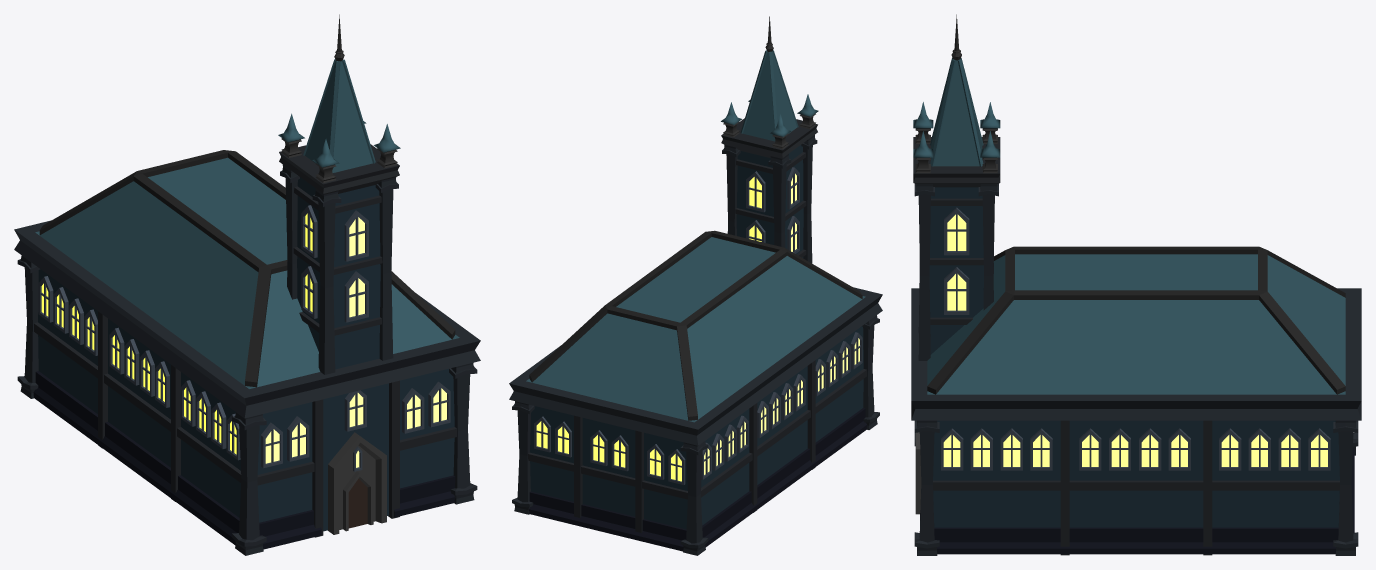
Rendered from pedrio2.fbx.
3 views of the same model, side by side, from view 1: azimuth 30°, elevation 25°; view 2: azimuth 150°, elevation 25°; view 3: azimuth 270°, elevation 25° (orthographic). The views are drawn at different scales.
Parts seen in each view (by area): view 1: P1_Telhado01.001, Cube.002, Cube, P1_Pilar01.001, Cube.001, P1_Janela01.004, P1_Janela01.001, P1_PortaContorno01, P1_JanelaFundo01.001, P1_JanelaFundo01.004, P1_Ponta01.001, P1_Porta01.001; view 2: P1_Telhado01.001, Cube.002, Cube, P1_Pilar01.001, Cube.001, P1_Janela01.004, P1_Janela01.001, P1_JanelaFundo01.001, P1_JanelaFundo01.004, P1_Ponta01.001; view 3: P1_Telhado01.001, Cube, Cube.002, Cube.001, P1_Pilar01.001, P1_Janela01.003, P1_JanelaFundo01.003, P1_Janela01.001, P1_JanelaFundo01.001, P1_Ponta01.001.
Boxes of the visible parts, box(x1,y1,x2,y2) form: P1_Telhado01.001: box(35, 59, 459, 388); Cube.002: box(14, 144, 480, 537); Cube: box(38, 177, 454, 531); P1_Pilar01.001: box(17, 164, 477, 555); Cube.001: box(33, 371, 455, 549); P1_Janela01.004: box(38, 276, 240, 460); P1_Janela01.001: box(261, 205, 450, 468); P1_PortaContorno01: box(328, 432, 386, 534); P1_JanelaFundo01.001: box(265, 213, 446, 463); P1_JanelaFundo01.004: box(41, 283, 236, 454); P1_Ponta01.001: box(281, 14, 397, 183); P1_Porta01.001: box(348, 478, 367, 528); P1_Telhado01.001: box(526, 50, 865, 422); Cube.002: box(509, 118, 882, 532); Cube: box(530, 145, 863, 529); P1_Pilar01.001: box(512, 135, 879, 555); Cube.001: box(529, 408, 867, 551); P1_Janela01.004: box(701, 332, 862, 479); P1_Janela01.001: box(534, 167, 799, 484); P1_JanelaFundo01.001: box(536, 173, 796, 481); P1_JanelaFundo01.004: box(704, 338, 859, 474); P1_Ponta01.001: box(723, 16, 815, 149); P1_Telhado01.001: box(913, 57, 1345, 394); Cube: box(929, 187, 1339, 527); Cube.002: box(911, 137, 1361, 555); Cube.001: box(920, 448, 1354, 554); P1_Pilar01.001: box(914, 183, 1358, 555); P1_Janela01.003: box(941, 428, 1330, 470); P1_JanelaFundo01.003: box(943, 435, 1327, 466); P1_Janela01.001: box(944, 207, 969, 314); P1_JanelaFundo01.001: box(947, 214, 966, 310); P1_Ponta01.001: box(915, 14, 997, 173).
Bounding box in the file's own units: 481 × 972 × 813.
